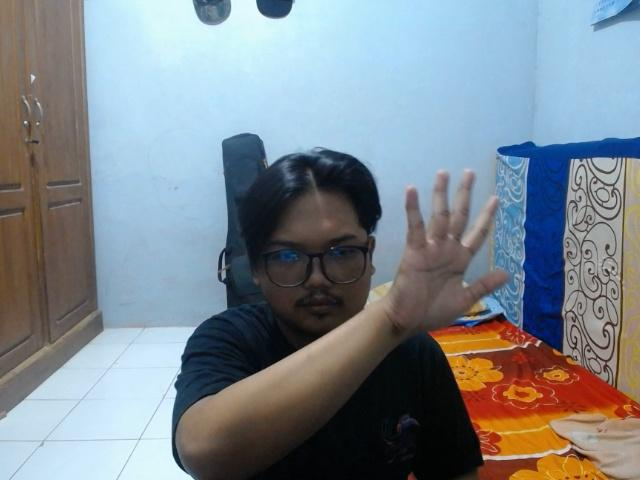Release: (386, 163, 513, 340)
